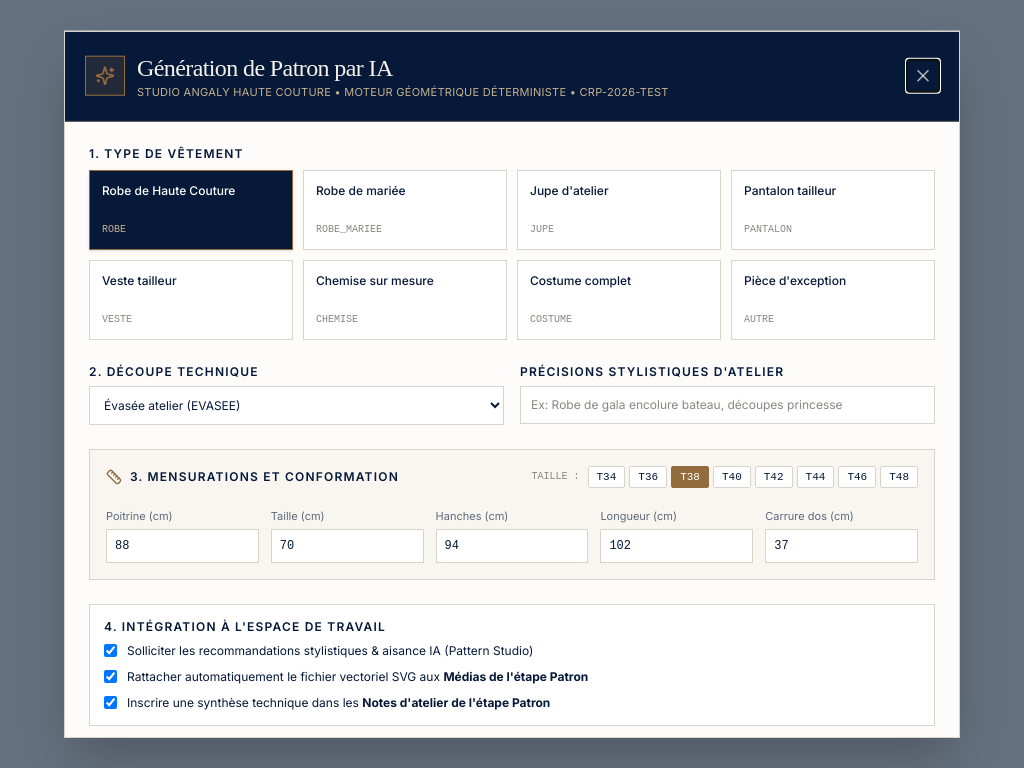
Test: CreationProjectAiPatternModal › submits pattern generation with expected payload and displays results
Select garment type 'JUPE'
Click the button "Jupe d'atelier JUPE".
click(619, 209)  # box [517,169,721,249]
(page scrolled)
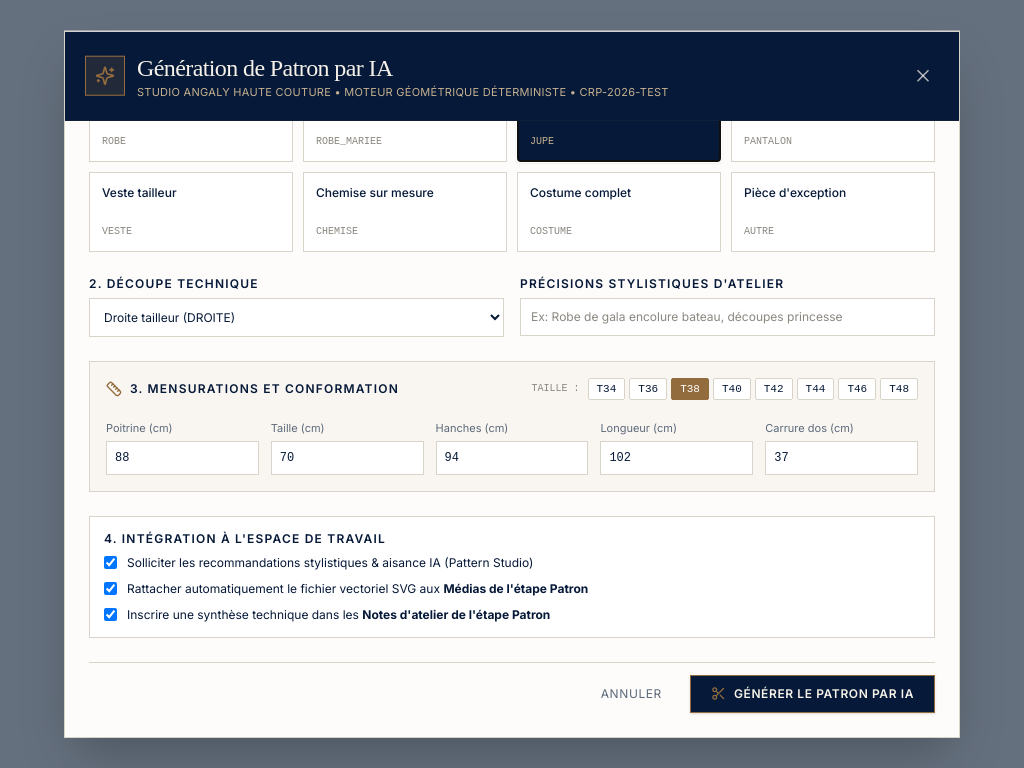
Submit form
Click the button "Générer le patron par IA".
click(812, 693)  # box [690,674,935,712]
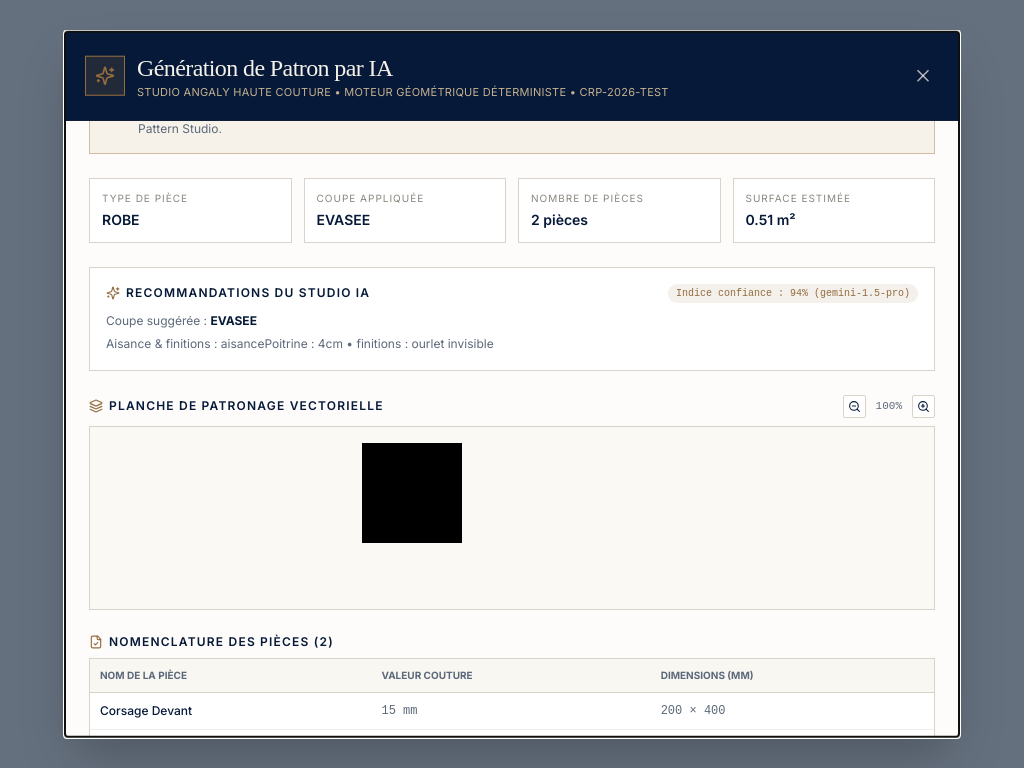
Expected: the text "2 pièces" is shown, [531,210,588,227]
Expected: the text "Indice confiance : 94% (gemini-1.5-pro)" is shown, [668,283,918,302]
Expected: the text "Corsage Devant" is shown, [90,692,372,729]
